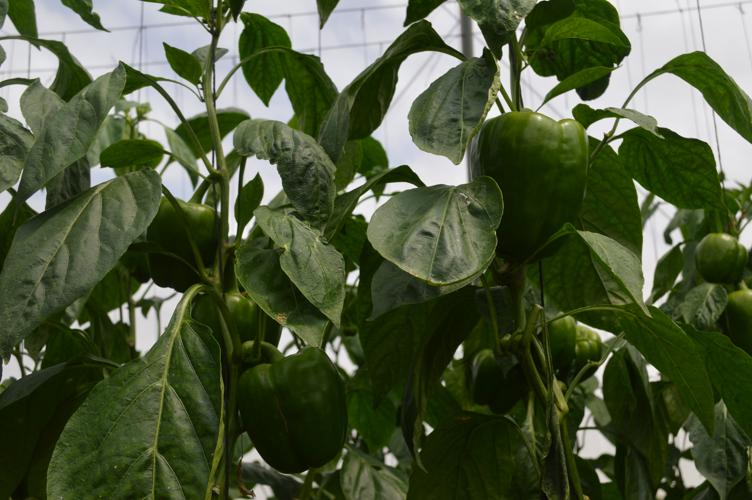BellPepper: (460, 113, 588, 263), (240, 349, 353, 477), (144, 194, 223, 290), (191, 294, 280, 364), (463, 349, 522, 417), (535, 312, 577, 375), (694, 233, 745, 283), (572, 326, 604, 381), (722, 288, 751, 345)
